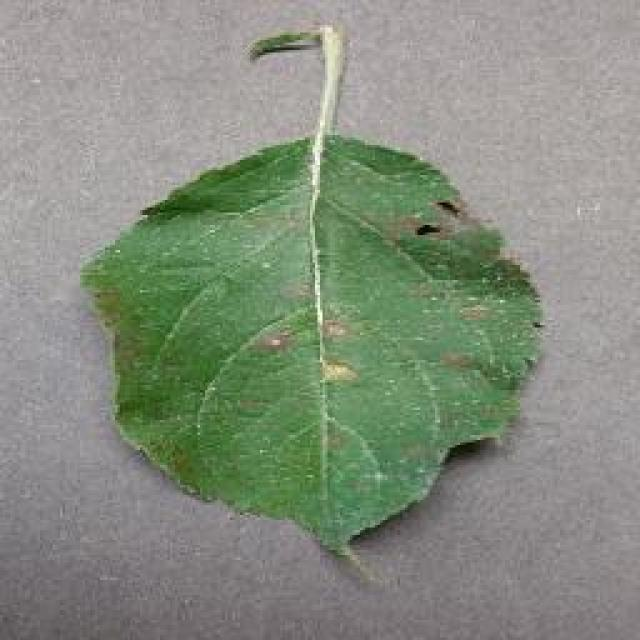apple cedar apple rust: (78, 22, 548, 580)
